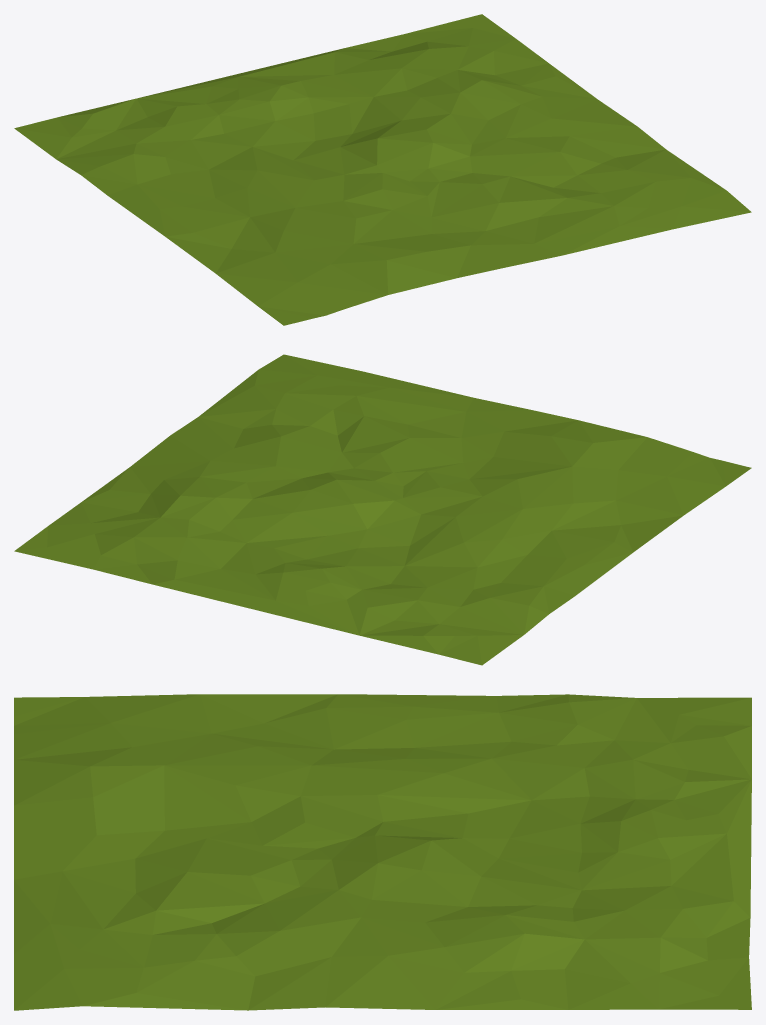
Rendered from Ground_A_01.fbx.
The picture shows the model from 3 angles, top to bottom: view 1: azimuth 30°, elevation 25°; view 2: azimuth 150°, elevation 25°; view 3: azimuth 270°, elevation 25°; orthographic projection. The views are drawn at different scales.
Parts seen in each view (by area): view 1: Ground_A_01; view 2: Ground_A_01; view 3: Ground_A_01.
Boxes of the visible parts, <box> form: Ground_A_01: <box>14,14,751,325</box>; Ground_A_01: <box>14,354,751,665</box>; Ground_A_01: <box>14,694,751,1010</box>.
Size of the model in its own units: 20.01 by 0.7095 by 19.97.
